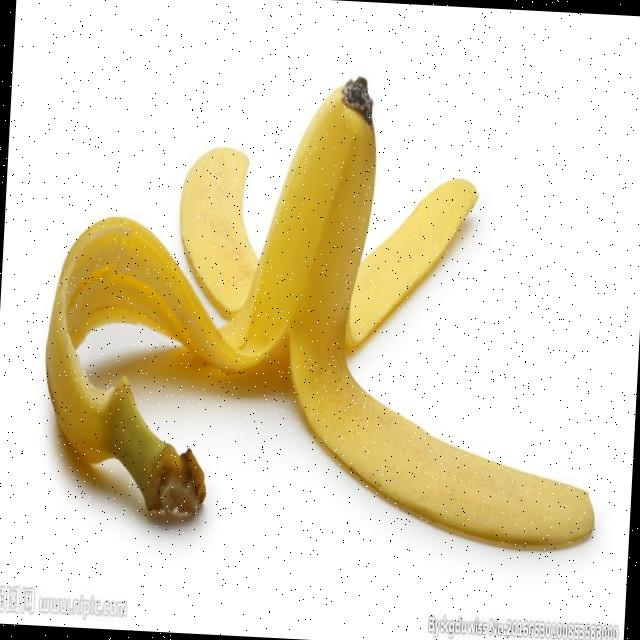banana-peel: (35, 59, 618, 554), (276, 166, 612, 554)
